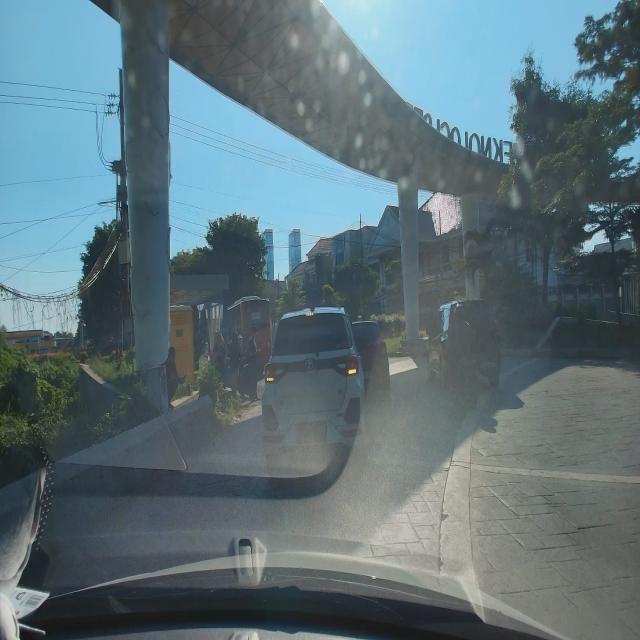car: (260, 298, 366, 483)
